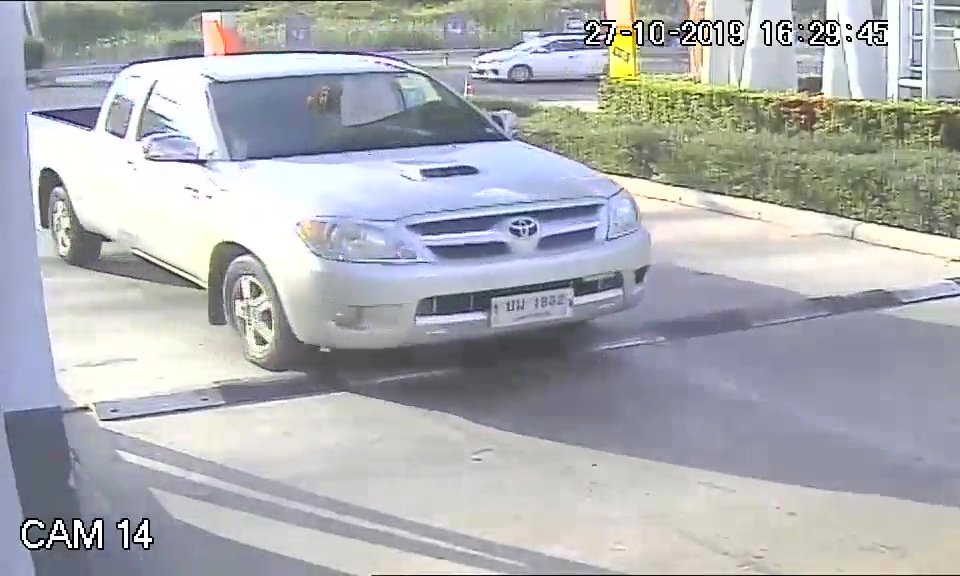pickup: (26, 49, 658, 369)
